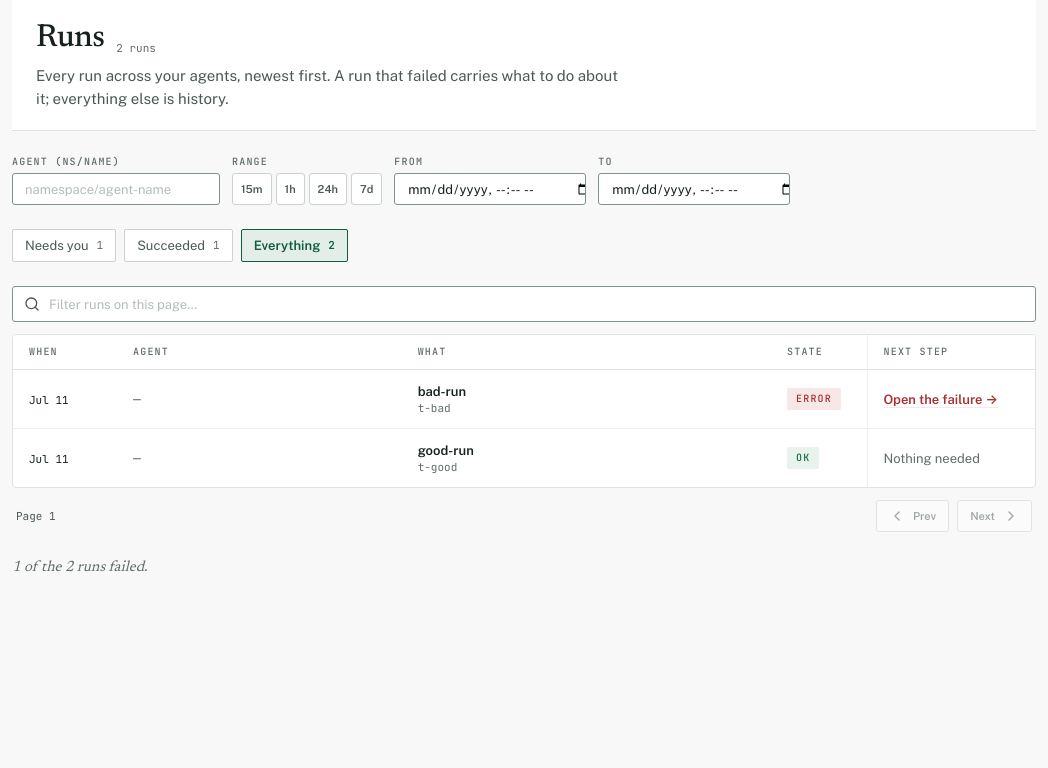
Test case: RunsPage — activity feed (M151, §4.4 / §7.1 / §7.2) › the Needs you chip narrows the loaded window to the runs that failed
Expected: the text "bad-run" is shown, [418,384,466,399]
What coordinates should you click on to do the following:
click the radio button labelled "Needs you 1"
I would click on:
 (64, 246)
Its box is [12,229,116,262].
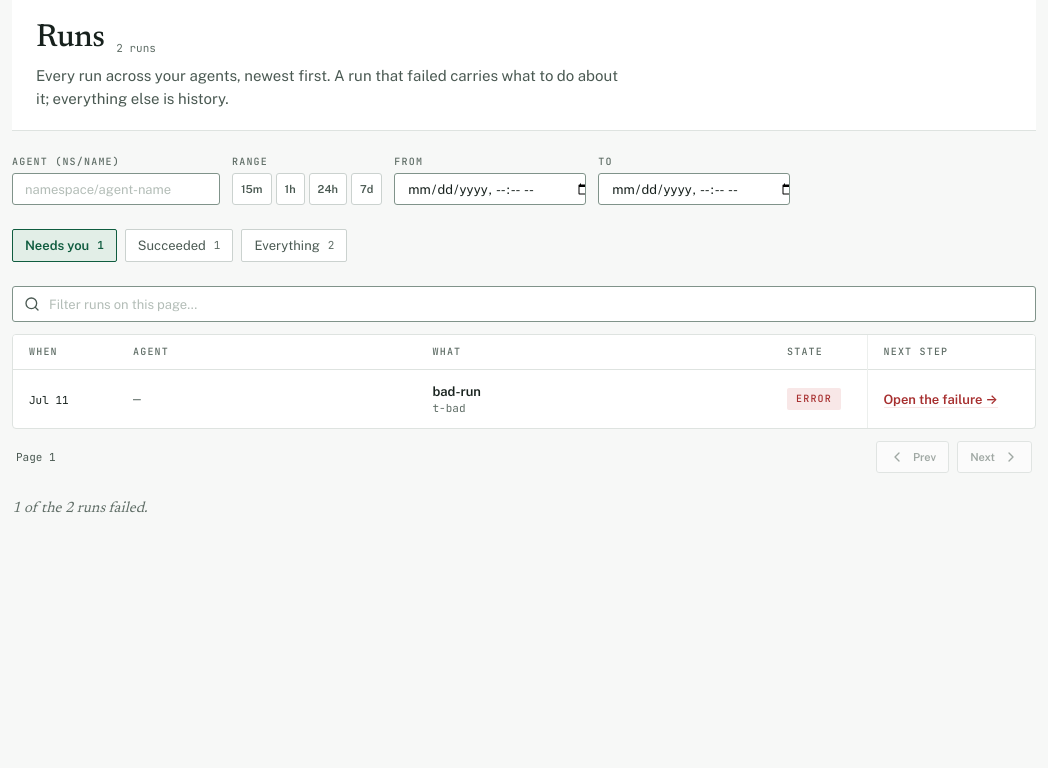
Expected: the text "bad-run" is shown, [432,384,481,399]
Now the text "good-run" is gone
